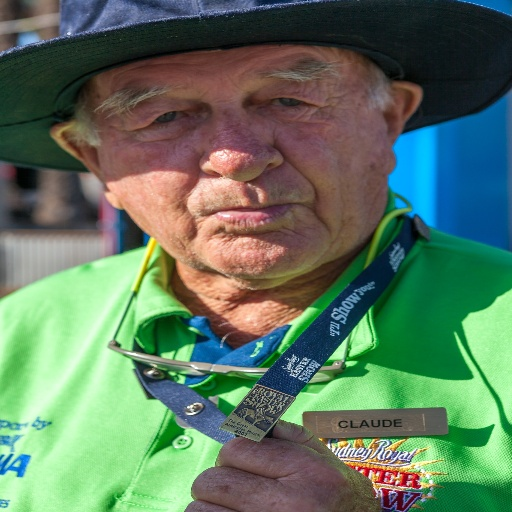hand: (184, 418, 384, 511)
